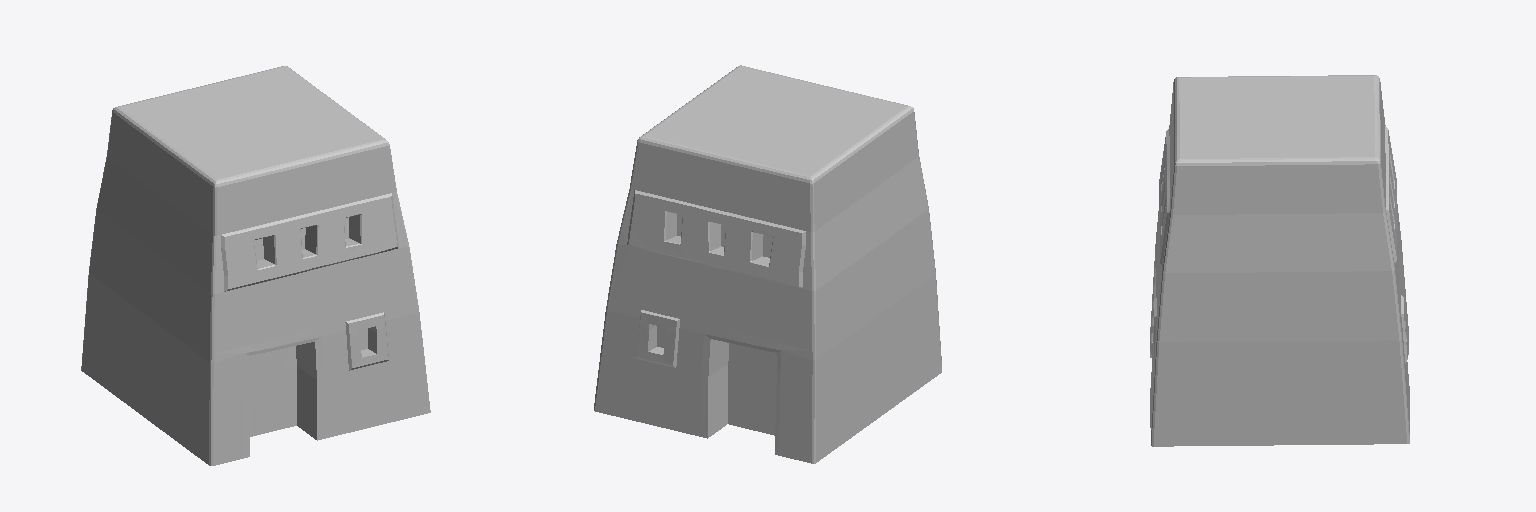
File: 003_EasternHouseNew.obj
3 views of the same model, side by side, from view 1: azimuth 30°, elevation 25°; view 2: azimuth 150°, elevation 25°; view 3: azimuth 270°, elevation 25° (orthographic).
Visible parts, largest first — view 1: Low_Poly_Middle_Eastern_Houses_08; view 2: Low_Poly_Middle_Eastern_Houses_08; view 3: Low_Poly_Middle_Eastern_Houses_08.
Boxes of the visible parts, x1,y1,x2,y2 form: Low_Poly_Middle_Eastern_Houses_08: [81, 66, 430, 465]; Low_Poly_Middle_Eastern_Houses_08: [594, 65, 941, 463]; Low_Poly_Middle_Eastern_Houses_08: [1150, 75, 1409, 446].
Size of the model in its own units: 75.76 by 88.74 by 76.77.